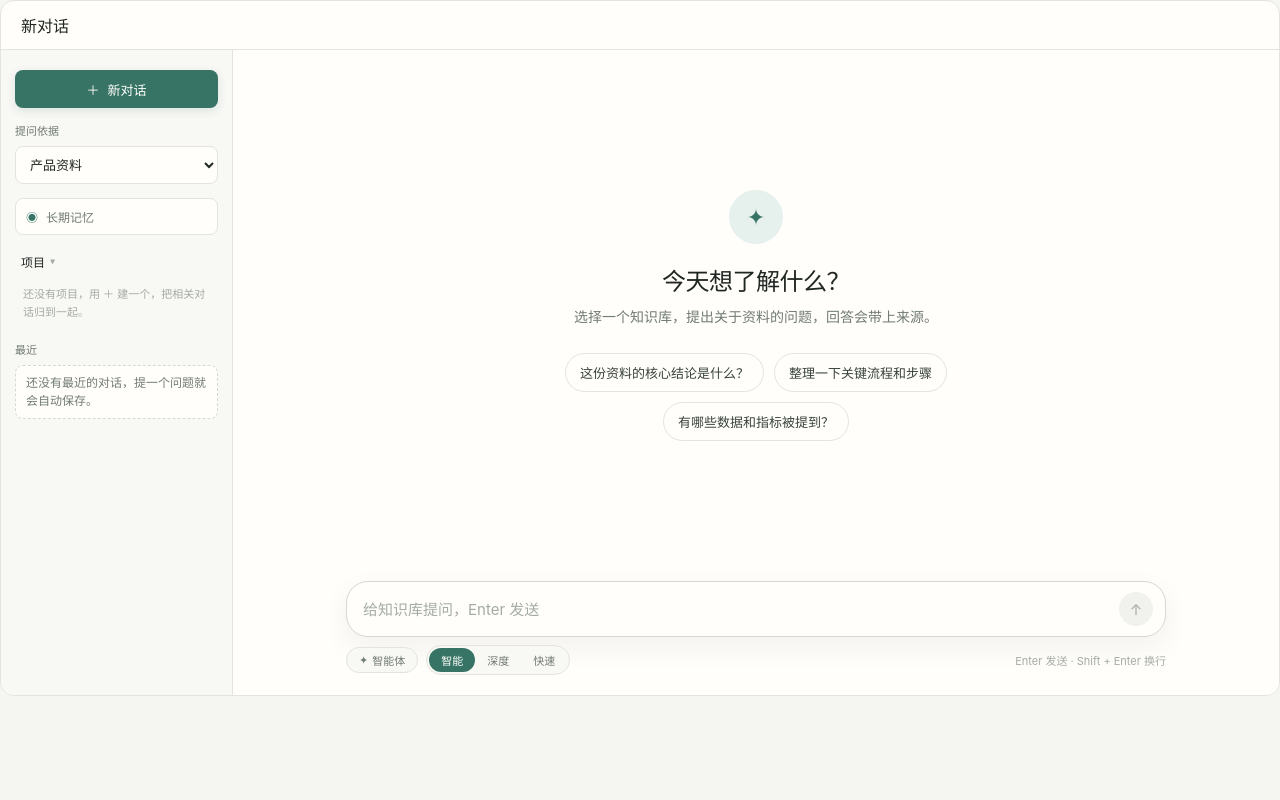
ChatView › shows the rewritten follow-up query in the sources drawer
Type "它有哪些限制？" into the text box with placeholder "给知识库提问，Enter 发送".
click(736, 609); type("它有哪些限制？")  # box x1=363 y1=592 x2=1109 y2=626
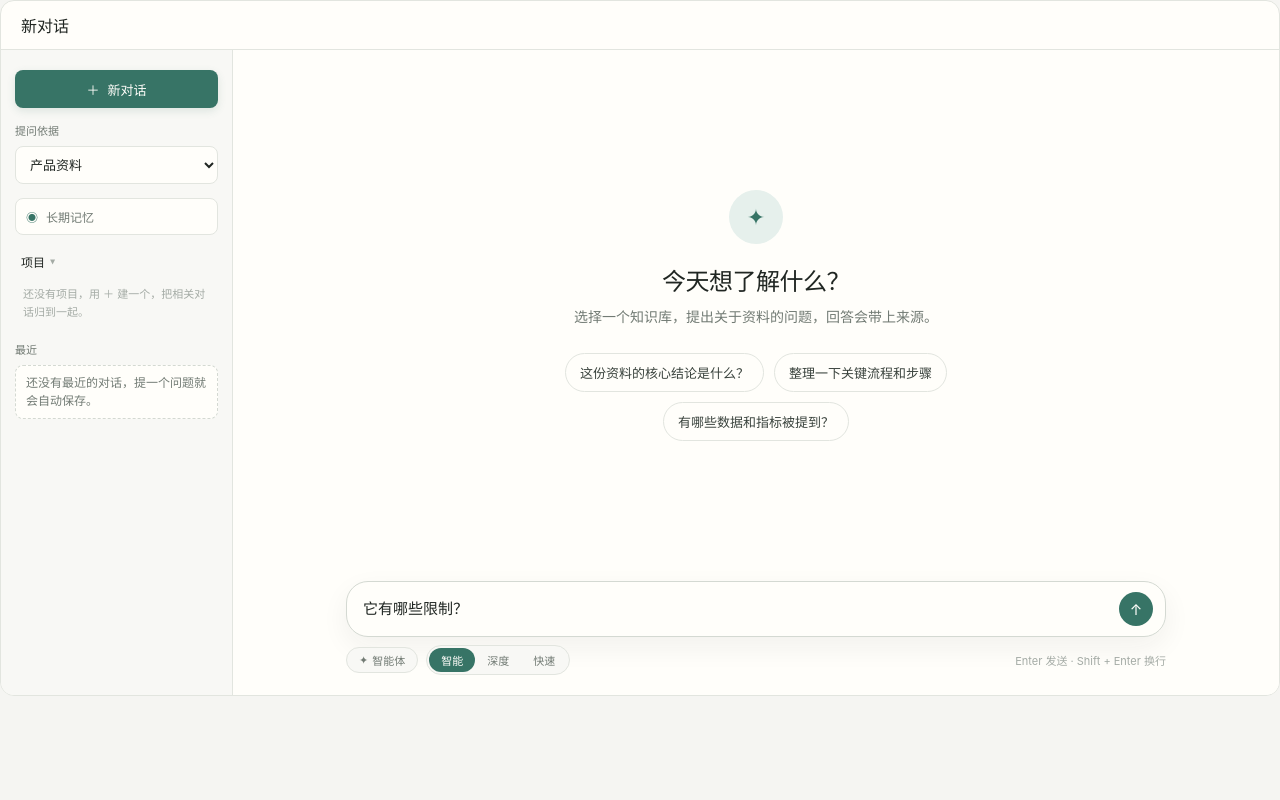
Press Enter in the text box named "输入问题", box x1=363 y1=592 x2=1109 y2=626
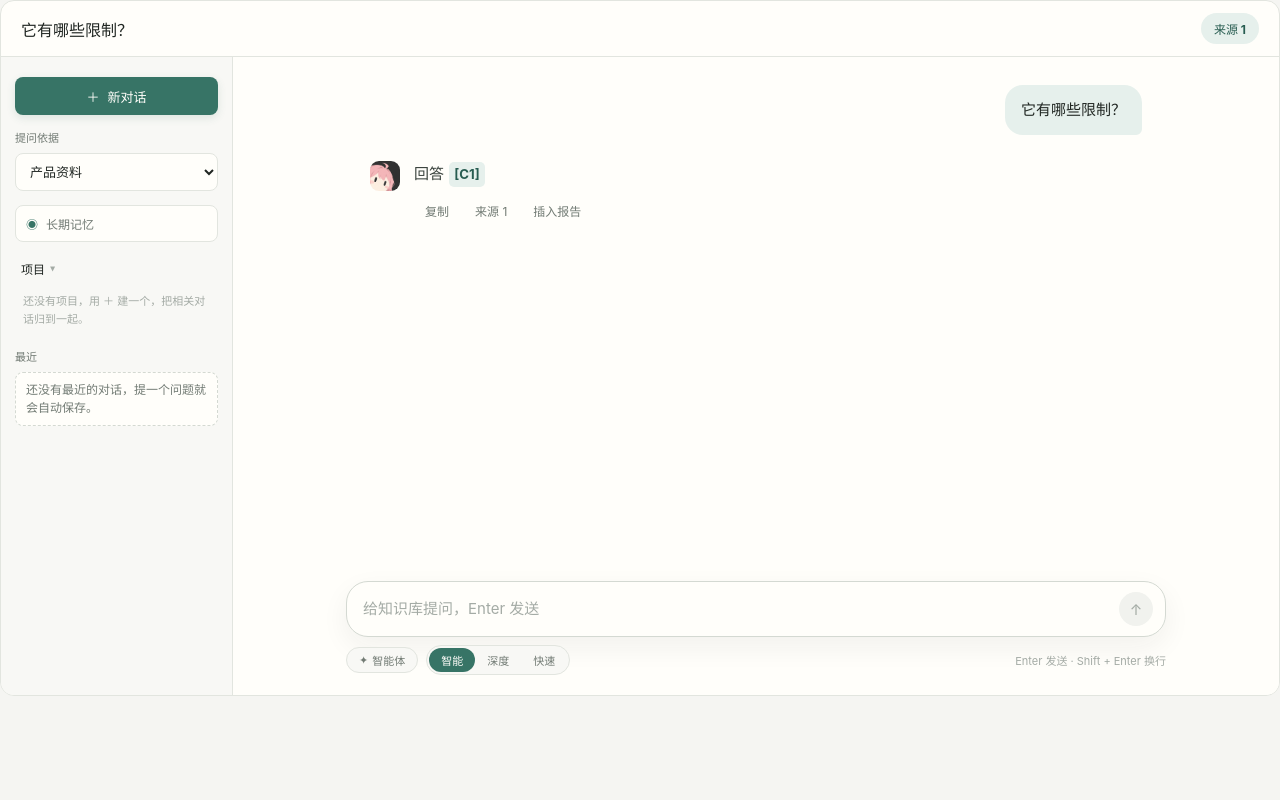
expect the text "回答 [C1]" is shown: met, box x1=414 y1=162 x2=485 y2=187
Click the button with class "message-action" below "回答".
click(491, 211)  # box x1=464 y1=197 x2=518 y2=224
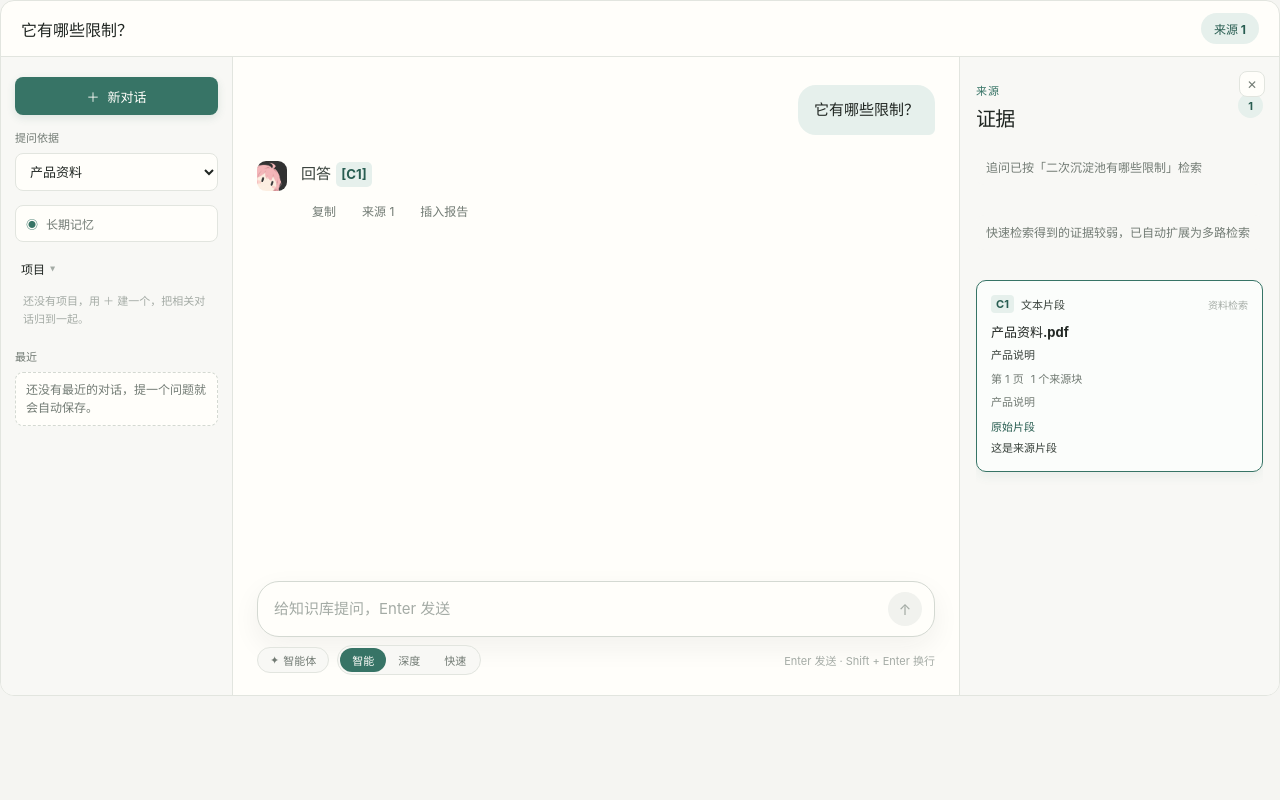
expect the text "追问已按「二次沉淀池有哪些限制」检索" is shown: met, box x1=976 y1=150 x2=1263 y2=185
expect the text "已自动扩展为多路检索" is shown: met, box x1=986 y1=225 x2=1250 y2=240
